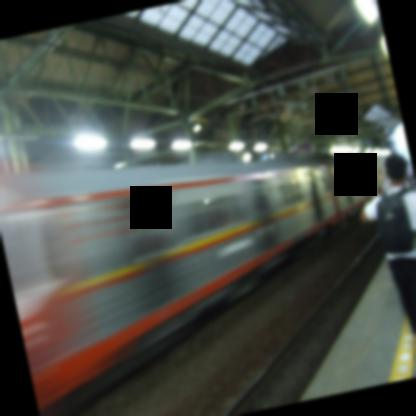backpack: (376, 183, 413, 254)
